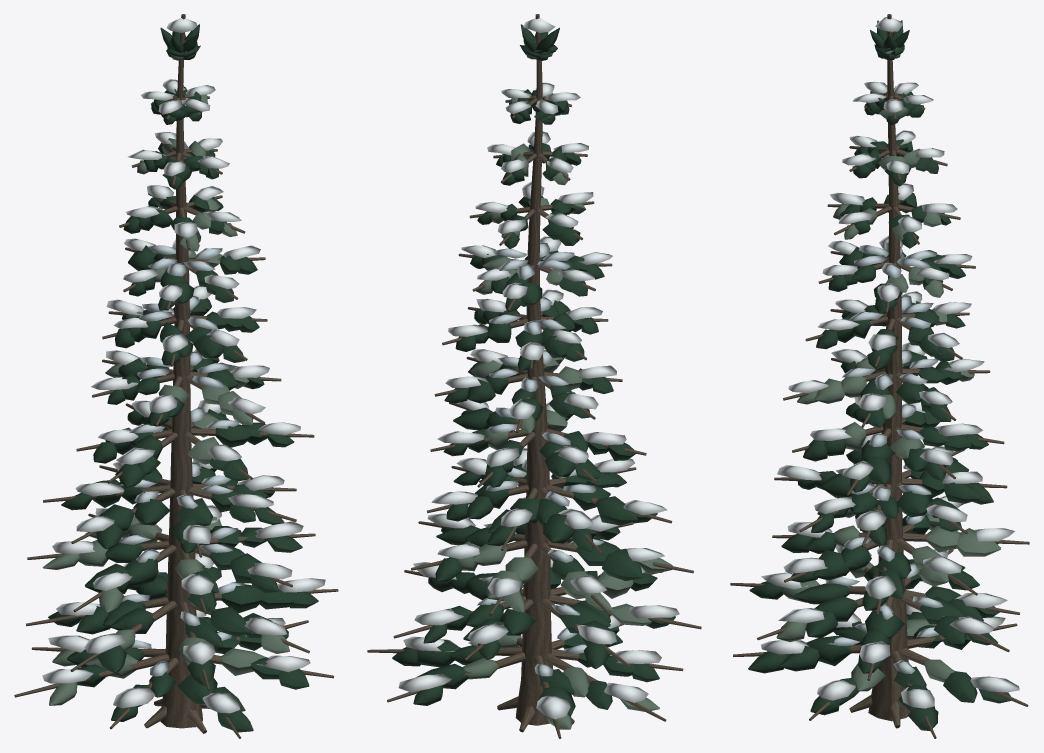
The model's file is PZ_Pine_HeavySnow.glb.
3 views of the same model, side by side, from view 1: azimuth 30°, elevation 25°; view 2: azimuth 150°, elevation 25°; view 3: azimuth 270°, elevation 25° (orthographic).
Parts seen in each view (by area): view 1: RENDER_Pine_HeavySnow_FoliageSprays_Tree_Needles_Evergreen, RENDER_Pine_HeavySnow_BoughSnowCaps_Tree_Snow_Fresh, RENDER_Pine_HeavySnow_WoodyBoughs_Tree_Bark_Pine, RENDER_Pine_HeavySnow_FoliageSprays_Tree_Needles_Frosted, RENDER_Pine_HeavySnow_Trunk_Pine_Tree_Bark_Pine, RENDER_Pine_HeavySnow_BoughSnowCaps_Tree_Snow_Packed, RENDER_Pine_HeavySnow_RootFlare_Tree_Bark_Pine; view 2: RENDER_Pine_HeavySnow_FoliageSprays_Tree_Needles_Evergreen, RENDER_Pine_HeavySnow_BoughSnowCaps_Tree_Snow_Fresh, RENDER_Pine_HeavySnow_WoodyBoughs_Tree_Bark_Pine, RENDER_Pine_HeavySnow_FoliageSprays_Tree_Needles_Frosted, RENDER_Pine_HeavySnow_Trunk_Pine_Tree_Bark_Pine, RENDER_Pine_HeavySnow_BoughSnowCaps_Tree_Snow_Packed; view 3: RENDER_Pine_HeavySnow_FoliageSprays_Tree_Needles_Evergreen, RENDER_Pine_HeavySnow_BoughSnowCaps_Tree_Snow_Fresh, RENDER_Pine_HeavySnow_FoliageSprays_Tree_Needles_Frosted, RENDER_Pine_HeavySnow_WoodyBoughs_Tree_Bark_Pine, RENDER_Pine_HeavySnow_BoughSnowCaps_Tree_Snow_Packed, RENDER_Pine_HeavySnow_Trunk_Pine_Tree_Bark_Pine.
Part boxes in pixels (x1=…): RENDER_Pine_HeavySnow_FoliageSprays_Tree_Needles_Evergreen: x1=48, y1=24, x2=318, y2=732; RENDER_Pine_HeavySnow_BoughSnowCaps_Tree_Snow_Fresh: x1=42, y1=79, x2=325, y2=713; RENDER_Pine_HeavySnow_WoodyBoughs_Tree_Bark_Pine: x1=14, y1=40, x2=338, y2=738; RENDER_Pine_HeavySnow_FoliageSprays_Tree_Needles_Frosted: x1=42, y1=55, x2=289, y2=705; RENDER_Pine_HeavySnow_Trunk_Pine_Tree_Bark_Pine: x1=160, y1=14, x2=202, y2=728; RENDER_Pine_HeavySnow_BoughSnowCaps_Tree_Snow_Packed: x1=119, y1=243, x2=244, y2=676; RENDER_Pine_HeavySnow_RootFlare_Tree_Bark_Pine: x1=144, y1=698, x2=209, y2=733; RENDER_Pine_HeavySnow_FoliageSprays_Tree_Needles_Evergreen: x1=392, y1=24, x2=675, y2=716; RENDER_Pine_HeavySnow_BoughSnowCaps_Tree_Snow_Fresh: x1=398, y1=82, x2=679, y2=719; RENDER_Pine_HeavySnow_WoodyBoughs_Tree_Bark_Pine: x1=367, y1=41, x2=701, y2=738; RENDER_Pine_HeavySnow_FoliageSprays_Tree_Needles_Frosted: x1=449, y1=53, x2=672, y2=729; RENDER_Pine_HeavySnow_Trunk_Pine_Tree_Bark_Pine: x1=515, y1=14, x2=553, y2=725; RENDER_Pine_HeavySnow_BoughSnowCaps_Tree_Snow_Packed: x1=468, y1=242, x2=604, y2=676; RENDER_Pine_HeavySnow_FoliageSprays_Tree_Needles_Evergreen: x1=748, y1=20, x2=1010, y2=730; RENDER_Pine_HeavySnow_BoughSnowCaps_Tree_Snow_Fresh: x1=761, y1=81, x2=1019, y2=708; RENDER_Pine_HeavySnow_FoliageSprays_Tree_Needles_Frosted: x1=776, y1=47, x2=1000, y2=691; RENDER_Pine_HeavySnow_WoodyBoughs_Tree_Bark_Pine: x1=730, y1=38, x2=1029, y2=738; RENDER_Pine_HeavySnow_BoughSnowCaps_Tree_Snow_Packed: x1=825, y1=242, x2=943, y2=673; RENDER_Pine_HeavySnow_Trunk_Pine_Tree_Bark_Pine: x1=868, y1=14, x2=910, y2=721.
Bounding box in the file's own units: 4.59 × 10.4 × 4.05.
Materials: 5 (5 with a texture image).
